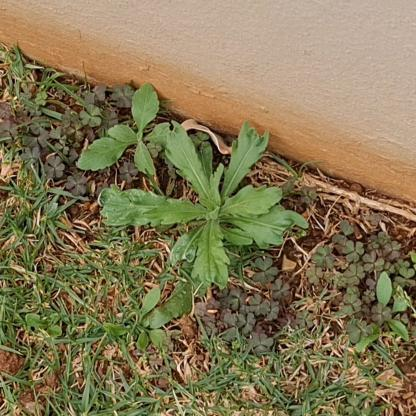Weeds: (100, 120, 309, 291), (78, 80, 188, 177), (349, 273, 410, 356), (104, 288, 171, 350), (25, 309, 64, 340)
